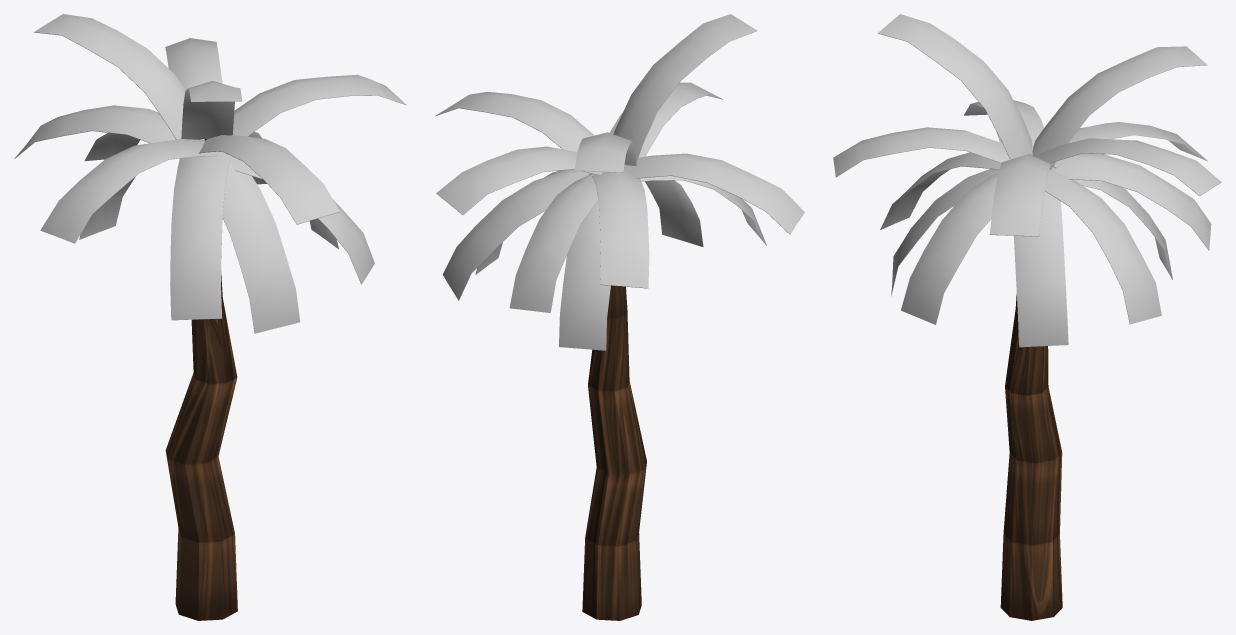
The model's file is tree_2.fbx.
3 renders of one model, left to right at view 1: azimuth 30°, elevation 25°; view 2: azimuth 150°, elevation 25°; view 3: azimuth 270°, elevation 25°, orthographic. The views are drawn at different scales.
Visible parts, largest first — view 1: Tree_2; view 2: Tree_2; view 3: Tree_2.
Boxes of the visible parts, box(x1,y1,x2,y2) form: Tree_2: box(14, 14, 406, 620); Tree_2: box(435, 14, 804, 620); Tree_2: box(833, 14, 1221, 620).
Bounding box in the file's own units: 4.62 × 7.14 × 4.51.
